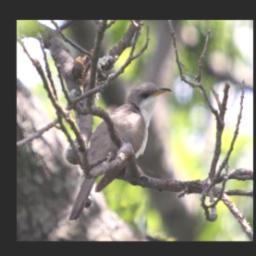Cuckoo: (69, 78, 174, 225)
